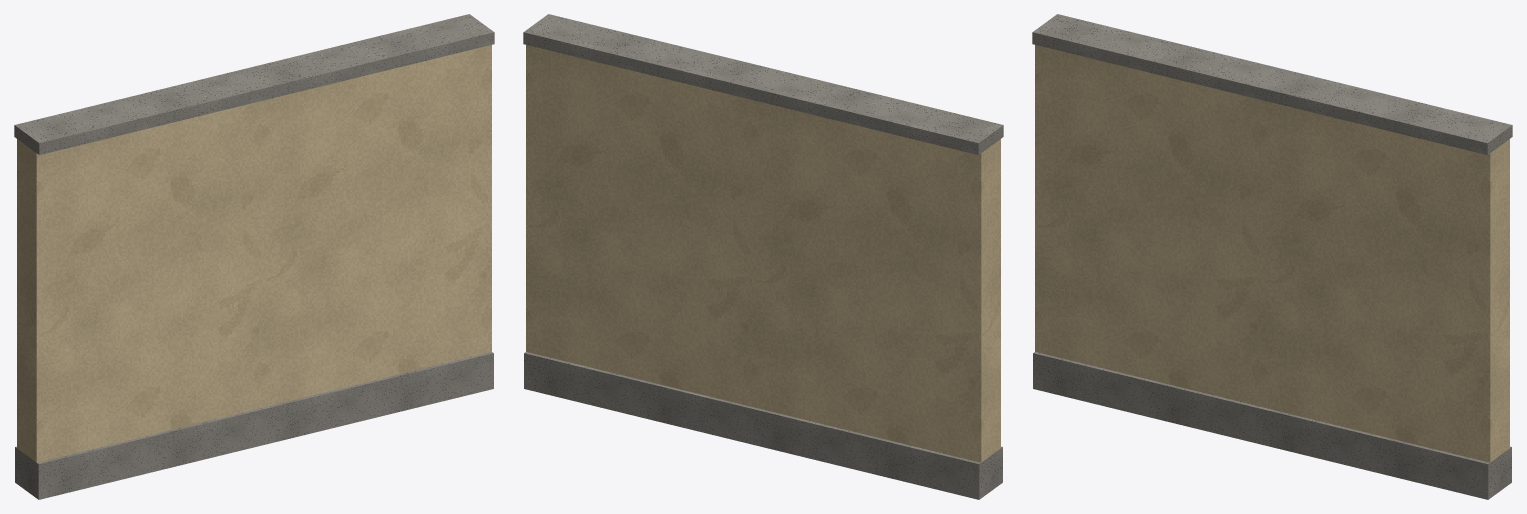
File: wall-plaster-4m.glb
3 views of the same model, side by side, from view 1: azimuth 30°, elevation 25°; view 2: azimuth 150°, elevation 25°; view 3: azimuth 330°, elevation 25° (orthographic).
Visible parts, largest first — view 1: wall-plaster-4m; view 2: wall-plaster-4m; view 3: wall-plaster-4m.
Part boxes in pixels (x1,y1,x2,y2): wall-plaster-4m: (14, 14, 494, 499); wall-plaster-4m: (523, 14, 1003, 499); wall-plaster-4m: (1032, 14, 1512, 499).
Bounding box in the file's own units: 4 × 3 × 0.38.
1 material, 1 textured.
